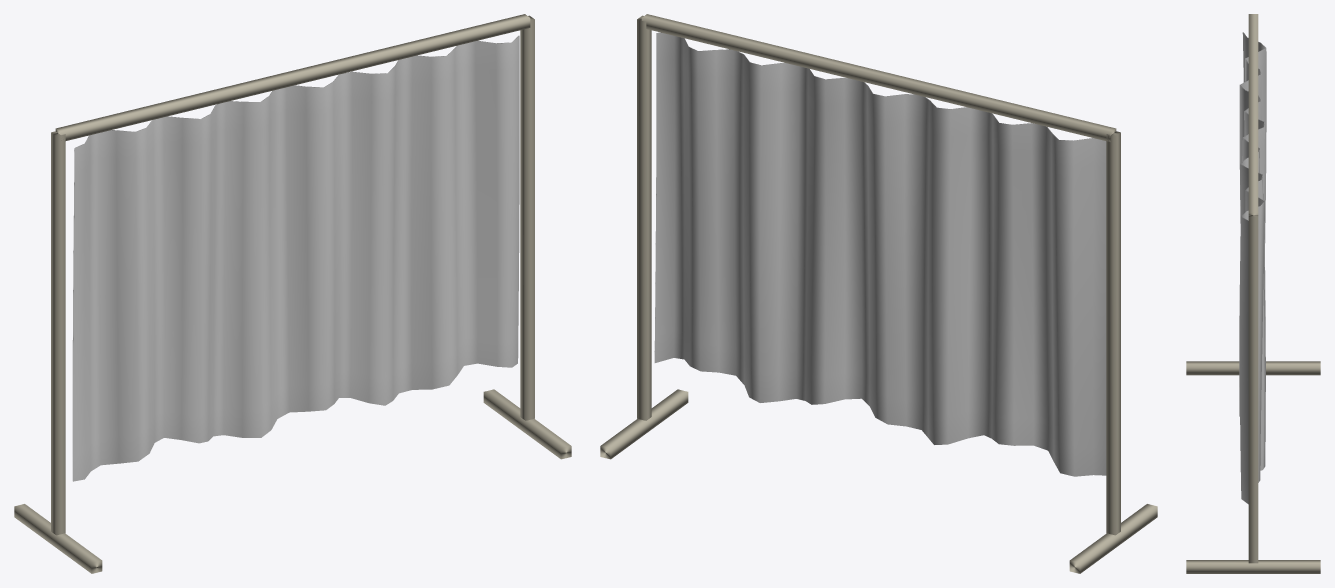
File: PrivacyScreen62.fbx
3 renders of one model, left to right at view 1: azimuth 30°, elevation 25°; view 2: azimuth 150°, elevation 25°; view 3: azimuth 270°, elevation 25°, orthographic. The views are drawn at different scales.
Visible parts, largest first — view 1: PrivacyScreen62; view 2: PrivacyScreen62; view 3: PrivacyScreen62.
Boxes of the visible parts, bbox=[...] form: PrivacyScreen62: bbox=[14, 14, 571, 573]; PrivacyScreen62: bbox=[600, 14, 1157, 573]; PrivacyScreen62: bbox=[1186, 14, 1320, 573].
Bounding box in the file's own units: 229 × 189 × 64.
